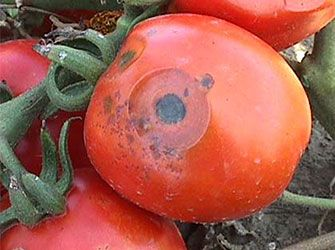anthracnose: (134, 65, 215, 153)
